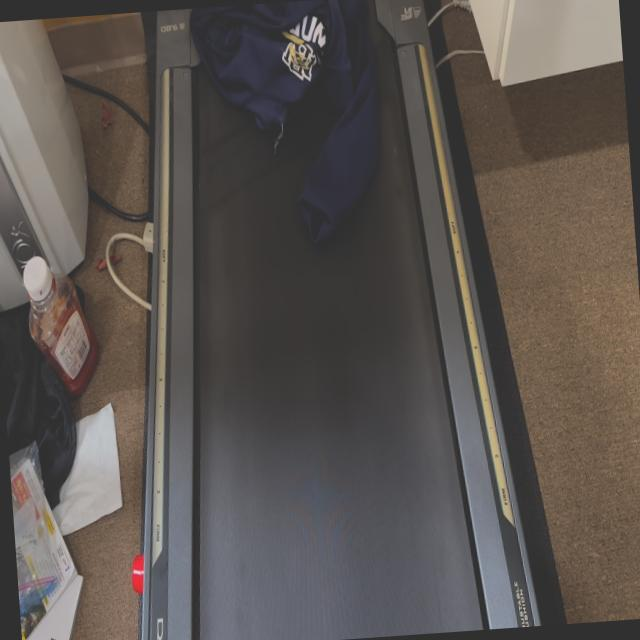Trash: (186, 0, 387, 244)
